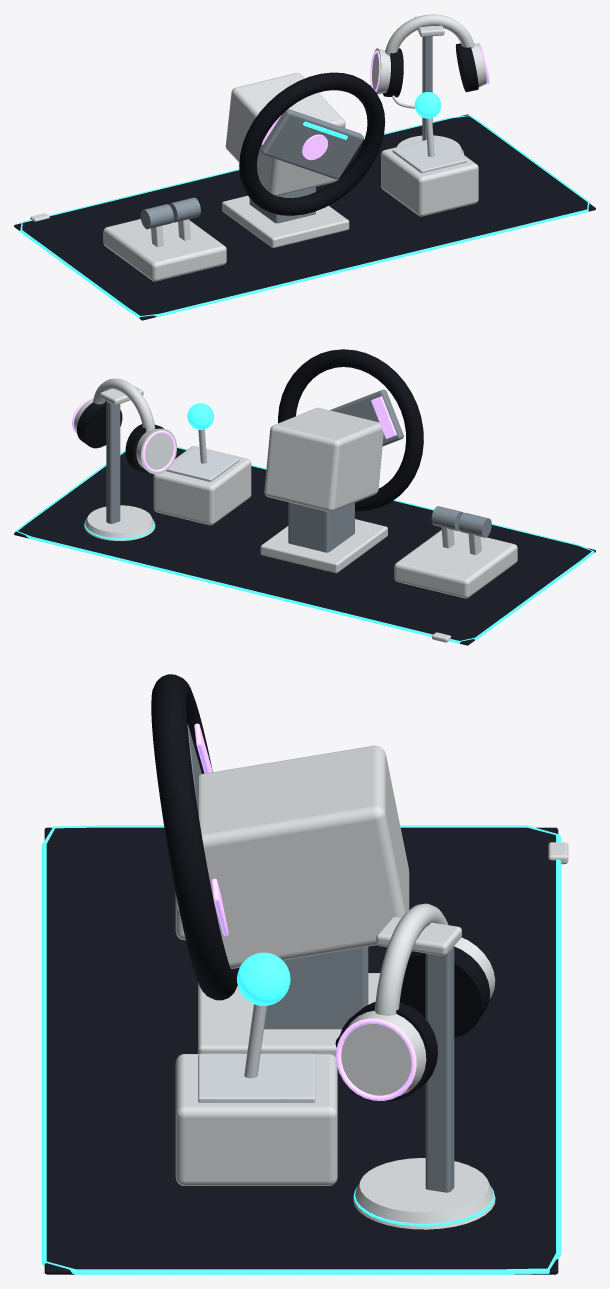
Rendered from atelier-gaming-loadout-simrig-arctic.glb.
The picture shows the model from 3 angles, top to bottom: view 1: azimuth 30°, elevation 25°; view 2: azimuth 150°, elevation 25°; view 3: azimuth 270°, elevation 25°; orthographic projection. The views are drawn at different scales.
Bounding box in the file's own units: 0.9452 × 0.3403 × 0.4716.
